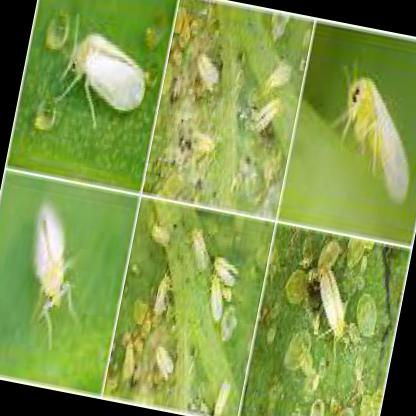whitefly: (347, 76, 409, 204), (70, 32, 146, 111)
